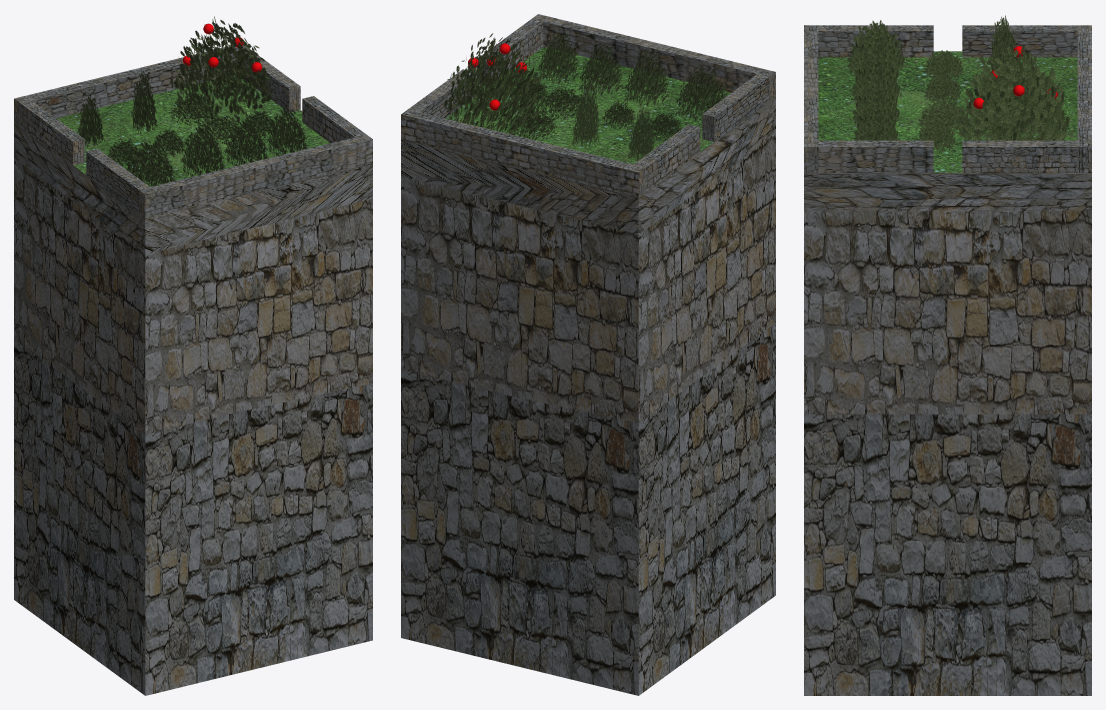
The model's file is garden.glb.
3 views of the same model, side by side, from view 1: azimuth 30°, elevation 25°; view 2: azimuth 150°, elevation 25°; view 3: azimuth 270°, elevation 25° (orthographic). The views are drawn at different scales.
Visible parts, largest first — view 1: Cube.006, Cube.003, Cube, Icosphere.007, Cube.002, Cube.007, Cube.004, Cube.001, Icosphere.002, Icosphere.004, Cube.005, Icosphere.003 (+6 smaller); view 2: Cube.006, Cube.003, Cube.002, Cube, Icosphere.007, Cube.004, Cube.007, Icosphere.002, Icosphere.004, Cube.001, Icosphere.003, Icosphere.001 (+7 smaller); view 3: Cube.006, Cube.003, Icosphere.007, Cube.001, Cube.005, Cube.007, Cube.004, Cube, Cube.002, Icosphere.004, Icosphere.001, Icosphere.002 (+6 smaller).
Part boxes in pixels (box(x1,y1,x2,y2)): Cube.006: box(14, 124, 372, 695); Cube.003: box(14, 75, 372, 219); Cube: box(139, 134, 372, 218); Icosphere.007: box(171, 16, 275, 125); Cube.002: box(14, 45, 246, 126); Cube.007: box(20, 100, 84, 165); Cube.004: box(86, 148, 149, 213); Cube.001: box(302, 96, 365, 142); Icosphere.002: box(180, 123, 225, 176); Icosphere.004: box(125, 139, 175, 186); Cube.005: box(236, 48, 300, 112); Icosphere.003: box(224, 118, 268, 166); Cube.006: box(401, 98, 775, 695); Cube.003: box(401, 47, 775, 198); Cube.002: box(401, 109, 645, 197); Cube: box(532, 14, 775, 101); Icosphere.007: box(444, 33, 545, 138); Cube.004: box(702, 74, 768, 141); Cube.007: box(634, 124, 700, 191); Icosphere.002: box(624, 48, 669, 106); Icosphere.004: box(675, 64, 727, 121); Cube.001: box(476, 19, 543, 86); Icosphere.003: box(579, 43, 623, 94); Icosphere.001: box(538, 30, 579, 83); Cube.006: box(804, 174, 1091, 695); Cube.003: box(804, 51, 1091, 174); Icosphere.007: box(958, 45, 1073, 140); Cube.001: box(818, 140, 933, 172); Cube.005: box(962, 140, 1077, 172); Cube.007: box(962, 25, 1077, 57); Cube.004: box(818, 25, 933, 57); Cube: box(804, 25, 818, 172); Cube.002: box(1077, 25, 1091, 172); Icosphere.004: box(847, 20, 906, 77); Icosphere.001: box(854, 93, 899, 140); Icosphere.002: box(852, 44, 901, 100).
Bounding box in the file's own units: 1 × 2.38 × 1.
27 materials, 22 textured.
